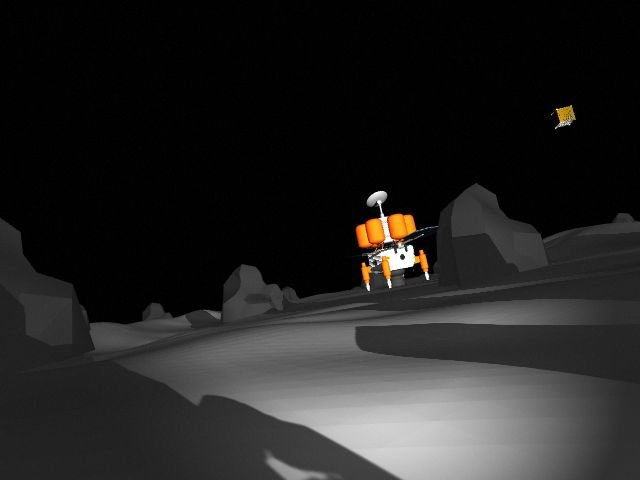homebase: (343, 189, 443, 293)
